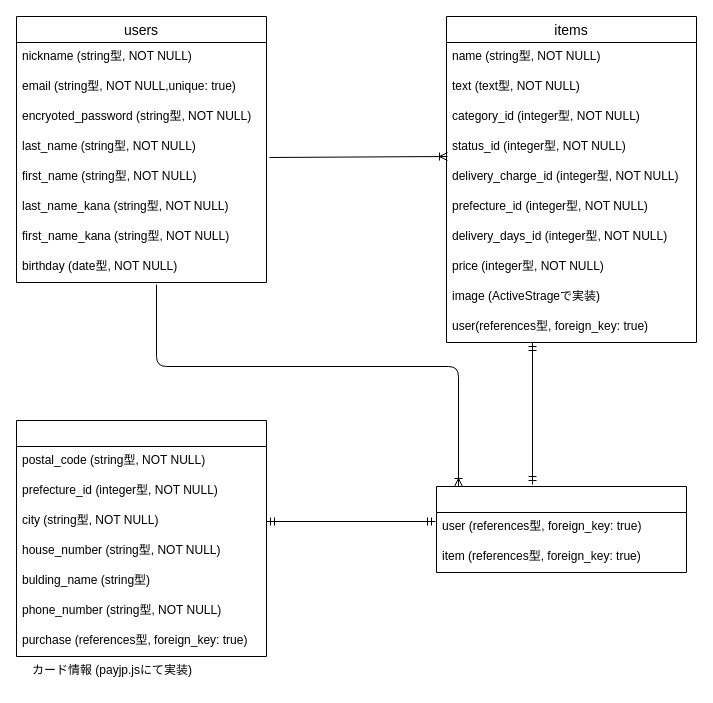
Image size: 713x703. Some labels were removed from this diagram. The shapes that lost their labels are listed below. From the top down, each one's box as (x1, y1, x2, y2) in pixels, then its label:
(16, 420, 266, 656): orders
(436, 486, 686, 572): purchases
